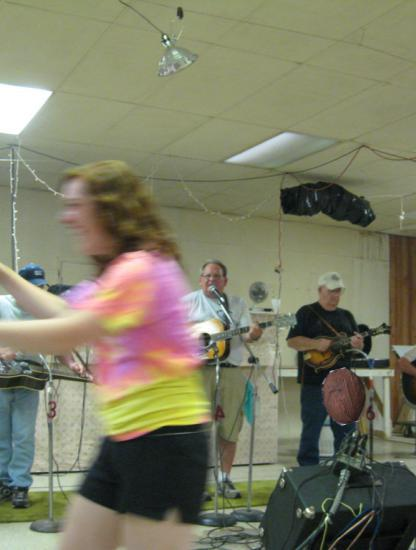Cocos: (317, 368, 374, 425)
